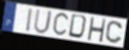C: (104, 20, 124, 45), (51, 12, 70, 38)
D: (67, 13, 89, 41)
H: (87, 16, 107, 44)
I: (25, 7, 34, 33)
U: (33, 8, 54, 35)
